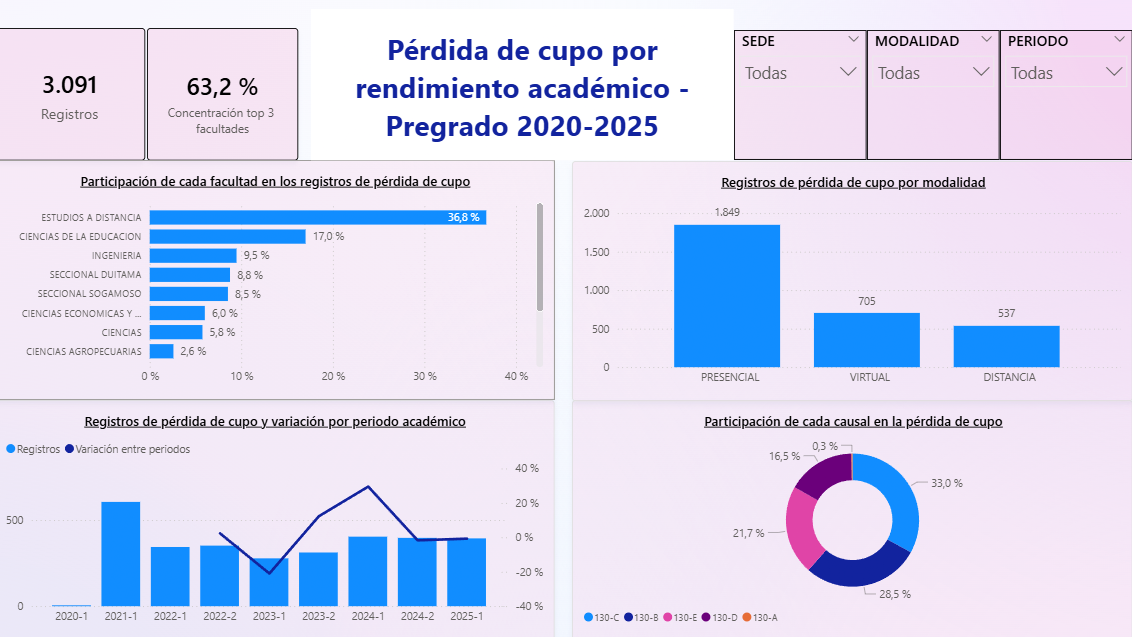

Layout of this report page (visuals, bound fields, positions):
{"tool":"powerbi","page":{"name":"PROYECTO","canvas":[1280,720],"ordinal":0},"visuals":[{"type":"card","fields":{"Values":["hechos_perdida_cupo.Registros"]},"box":[0,32.6,169.7,149.5],"z":0},{"type":"card","fields":{"Values":["hechos_perdida_cupo.Concentración top 3 facultades"]},"box":[171.9,32.6,169.7,149.5],"z":1000},{"type":"lineClusteredColumnComboChart","title":"Registros de pérdida de cupo y variación por periodo académico","fields":{"Category":["dim_periodo.periodo_cod"],"Y":["hechos_perdida_cupo.Registros"],"Y2":["hechos_perdida_cupo.Variación entre periodos"]},"box":[0,450.6,630,269.7],"z":2000},{"type":"clusteredBarChart","title":"Participación de cada facultad en los registros de pérdida de cupo","fields":{"Category":["dim_programa.facultad_grupo"],"Y":["hechos_perdida_cupo.% Participación"]},"box":[0,180.9,630.4,269.7],"z":3000},{"type":"donutChart","title":"Participación de cada causal en la pérdida de cupo","fields":{"Category":["dim_causal.causal"],"Y":["hechos_perdida_cupo.% Participación"]},"box":[649.6,450.6,630.4,269.7],"z":4000},{"type":"clusteredColumnChart","title":"Registros de pérdida de cupo por modalidad","fields":{"Category":["dim_oferta.modalidad"],"Y":["hechos_perdida_cupo.Registros"]},"box":[649.6,182.1,630.4,269.7],"z":5000},{"type":"slicer","fields":{"Values":["dim_oferta.modalidad"]},"box":[981.1,34.8,149.5,146.1],"z":6000},{"type":"slicer","fields":{"Values":["dim_sede.sede_grupo"]},"box":[831.6,34.8,149.5,146.1],"z":7000},{"type":"slicer","fields":{"Values":["dim_periodo.periodo_cod"]},"box":[1130.5,34.8,149.5,146.1],"z":8000},{"type":"textbox","box":[356.2,11.2,475.4,169.7],"z":9000}]}

Visuals, with their boxes in screenshot pixels (x1, y1, x2, y2), scaled from the page's 1280x720 canvas onto the 1132x637 screenshot:
card - hechos_perdida_cupo.Registros: [x1=0, y1=29, x2=150, y2=161]
card - hechos_perdida_cupo.Concentración top 3 facultades: [x1=152, y1=29, x2=302, y2=161]
"Registros de pérdida de cupo y variación por periodo académico" lineClusteredColumnComboChart: [x1=0, y1=399, x2=557, y2=636]
"Participación de cada facultad en los registros de pérdida de cupo" clusteredBarChart: [x1=0, y1=160, x2=558, y2=399]
"Participación de cada causal en la pérdida de cupo" donutChart: [x1=574, y1=399, x2=1131, y2=636]
"Registros de pérdida de cupo por modalidad" clusteredColumnChart: [x1=574, y1=161, x2=1131, y2=400]
slicer - dim_oferta.modalidad: [x1=868, y1=31, x2=1000, y2=160]
slicer - dim_sede.sede_grupo: [x1=735, y1=31, x2=868, y2=160]
slicer - dim_periodo.periodo_cod: [x1=1000, y1=31, x2=1131, y2=160]
textbox: [x1=315, y1=10, x2=735, y2=160]
